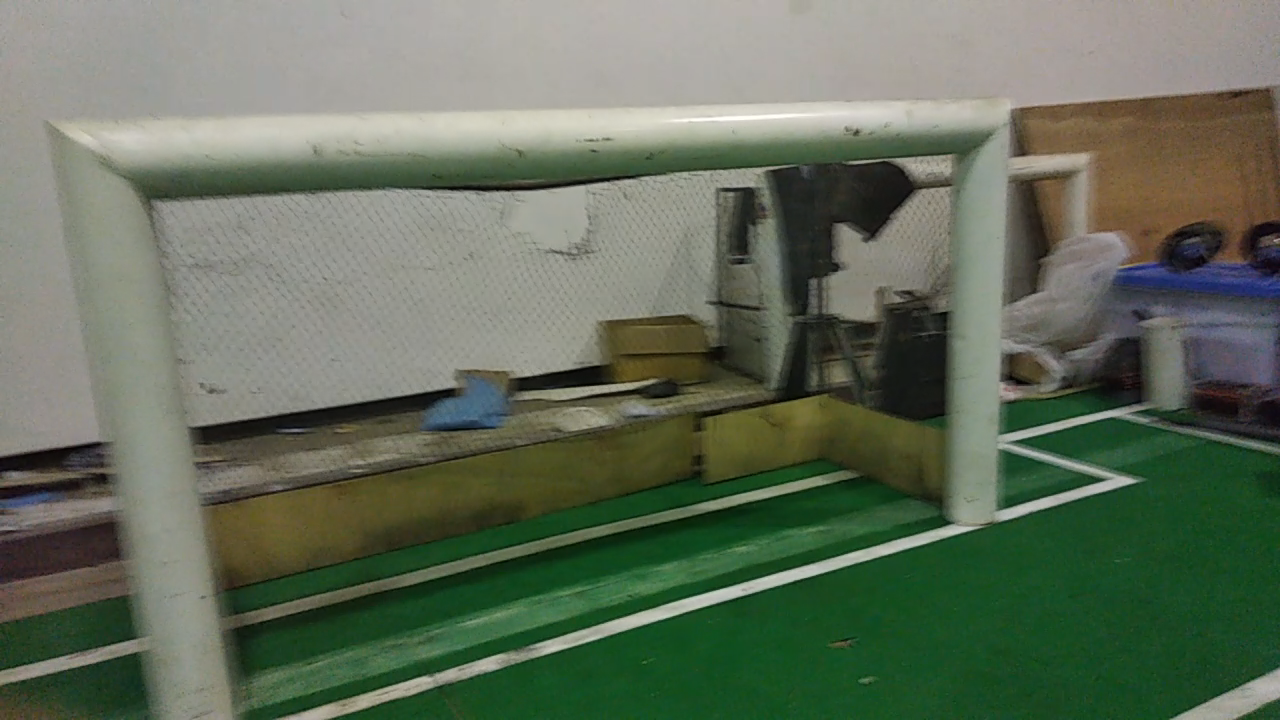gawang: (35, 79, 1025, 719)
